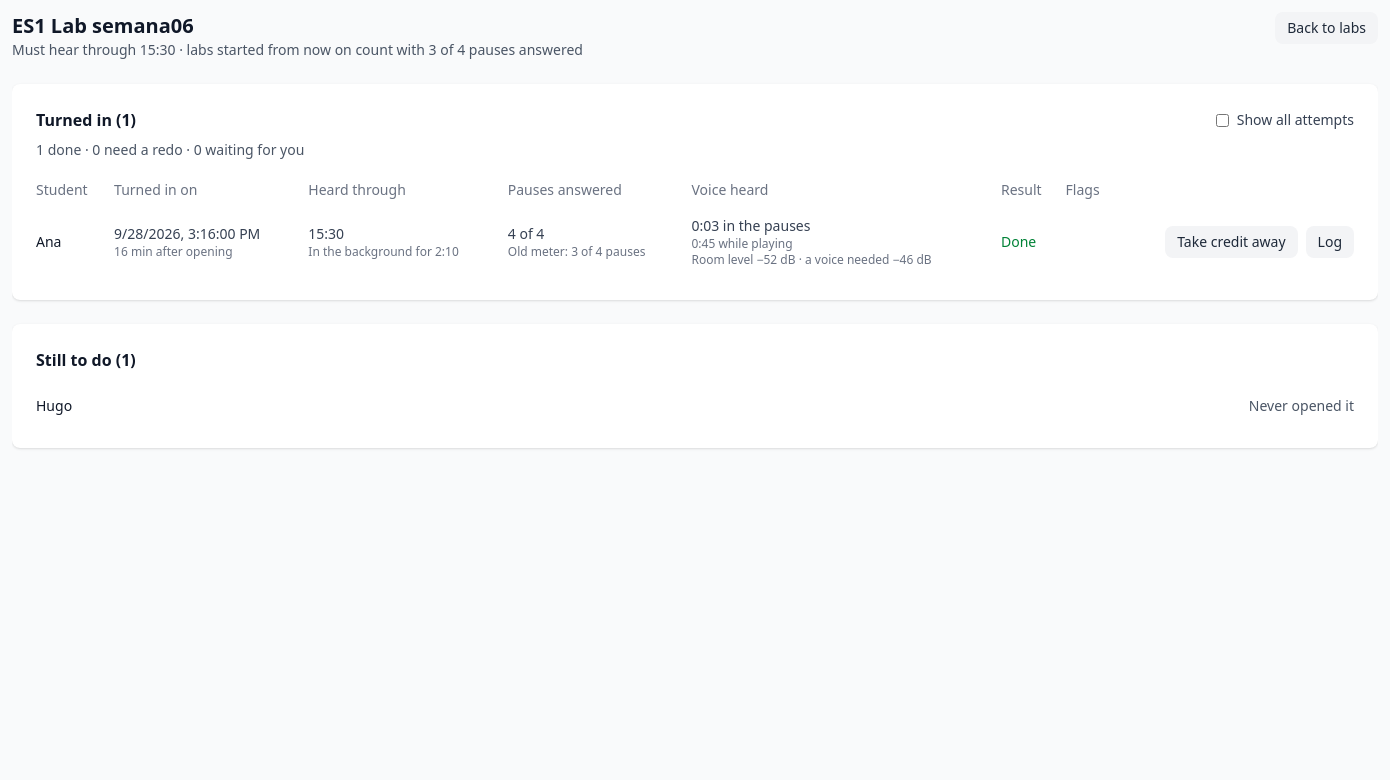
Test case: LabReview › what the page’s voice meter measured › shows the old meter’s count, the room level and time in the background on the row, the rest under the log
Expected: the cell "15:30 In the background for 2:10" is shown, [308,208,508,276]
Expected: the cell "4 of 4 Old meter: 3 of 4 pauses" is shown, [508,208,692,276]
Click the button with aria-label "Log: Ana".
click(1330, 242)  # box [1306,226,1354,258]
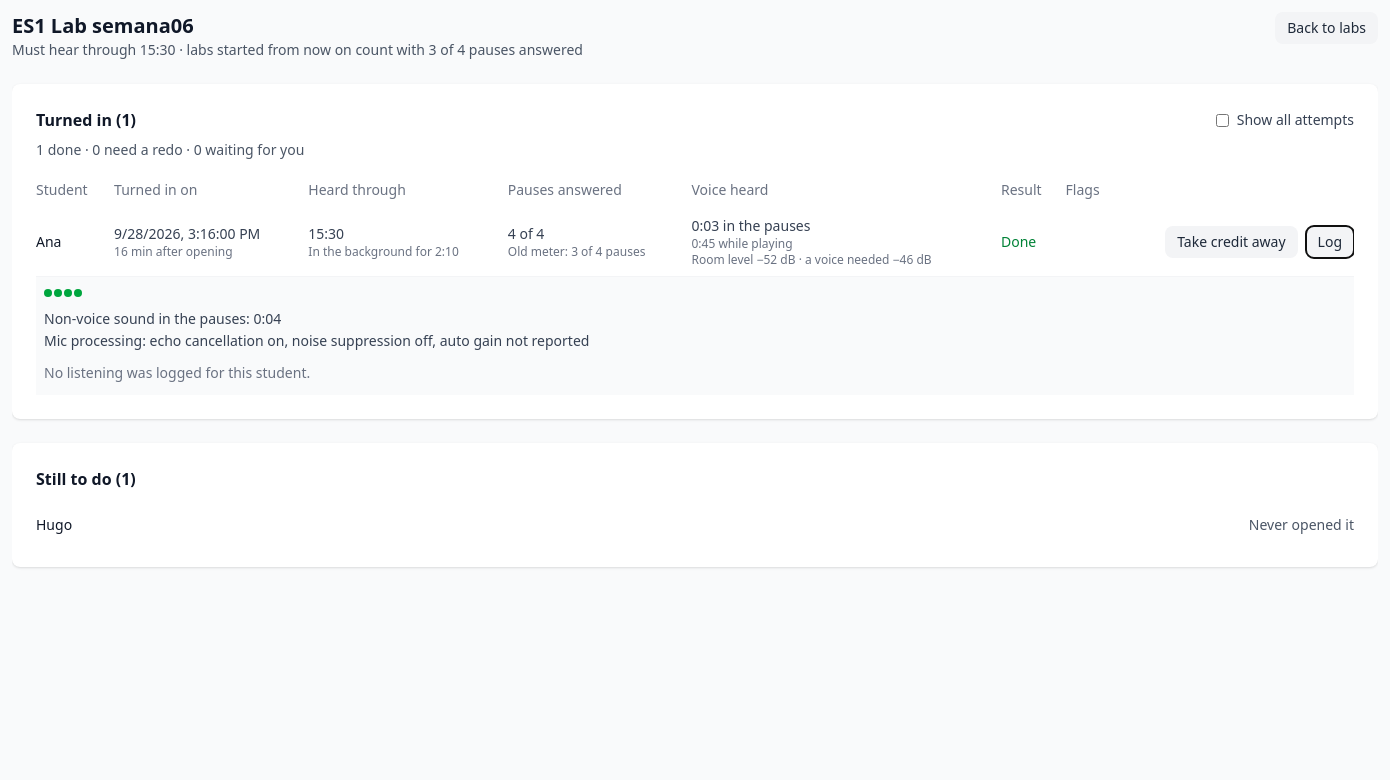
Result: the list items read "Non-voice sound in the pauses: 0:04", "Mic processing: echo cancellation on, noise suppression off, auto gain not reported", in this order at [44,309,281,328]; [44,331,589,350]
